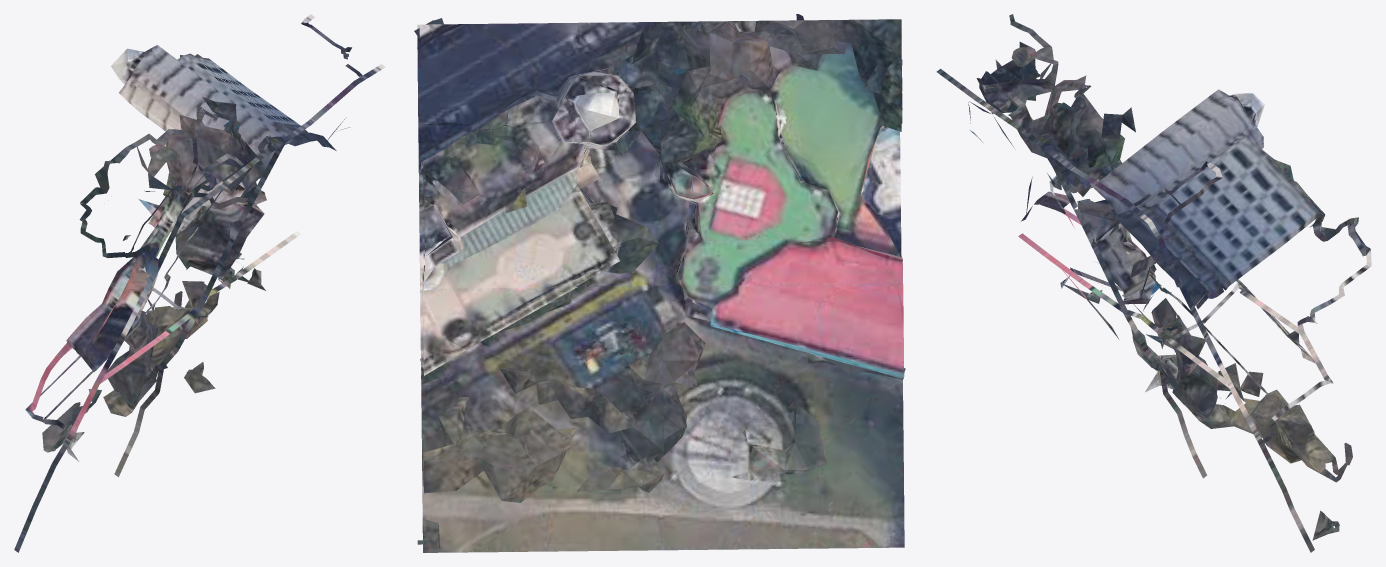
3 views of the same model, side by side, from view 1: azimuth 30°, elevation 25°; view 2: azimuth 150°, elevation 25°; view 3: azimuth 270°, elevation 25° (orthographic). The views are drawn at different scales.
Size of the model in its own units: 76.55 by 76.4 by 73.2.
1 material, 1 textured.
